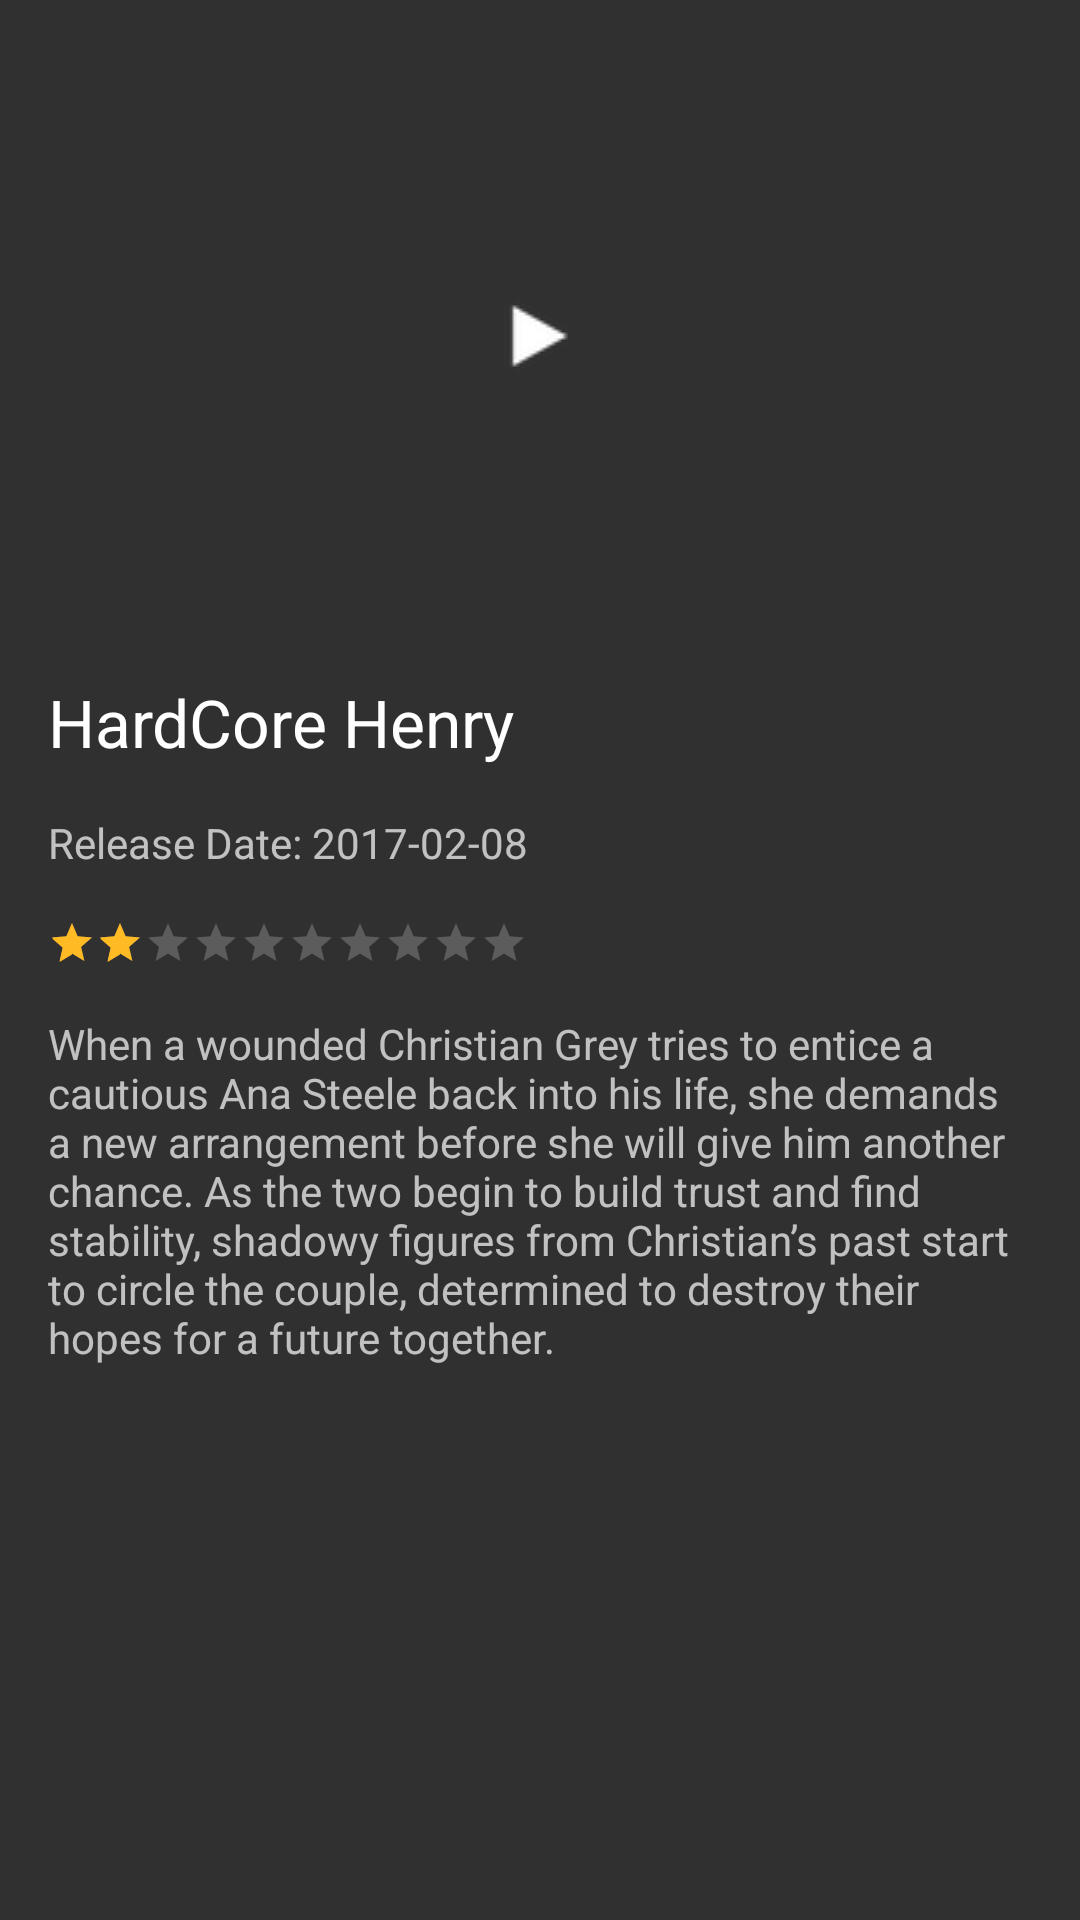

Screen size 1080*1920. Icon name, then its box in pixels as (x1, y1, x2, y2):
play detail: (512, 305, 567, 367)
